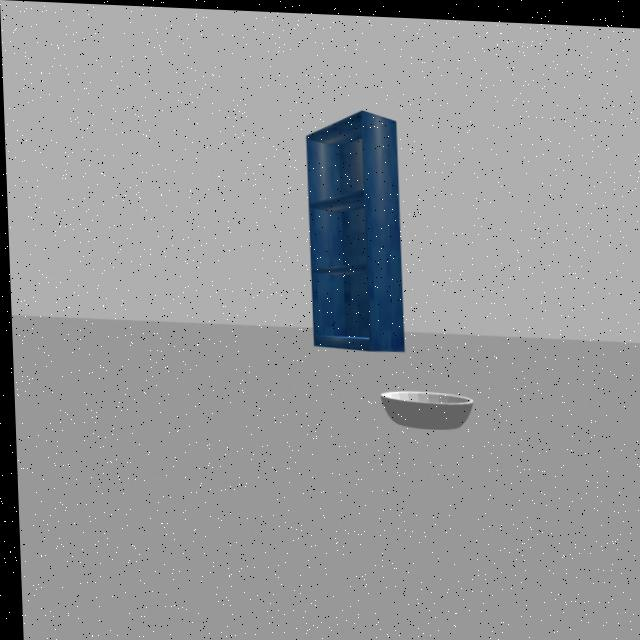bowl: (375, 378, 474, 434)
shelf: (289, 96, 412, 363)
